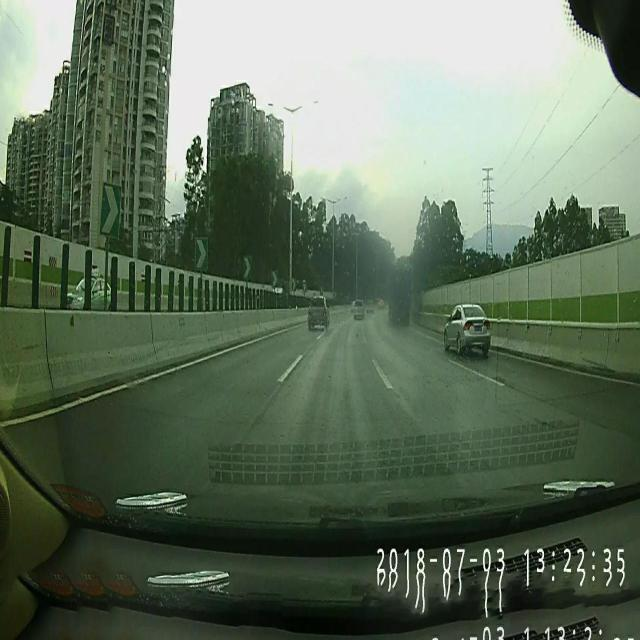car: (444, 302, 492, 358), (59, 275, 115, 313), (386, 266, 409, 328), (308, 294, 331, 330), (352, 296, 366, 321)
